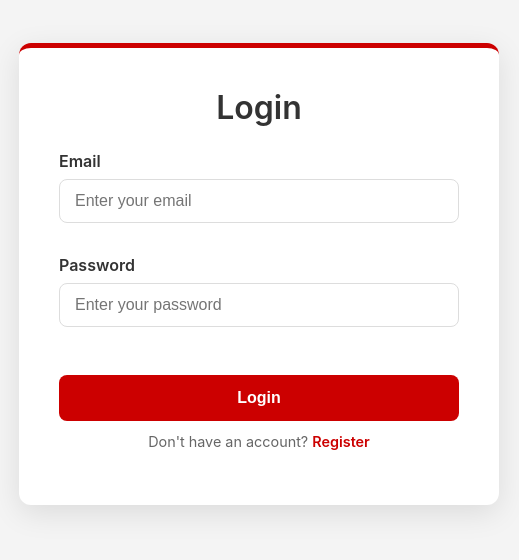
Scenario: Login Component - Unit Tests › displays error message on failed login
Type "wrong@ncsu.edu" into the field labelled "Email".
click(259, 201); type("wrong@ncsu.edu")  # box [59,179,459,223]
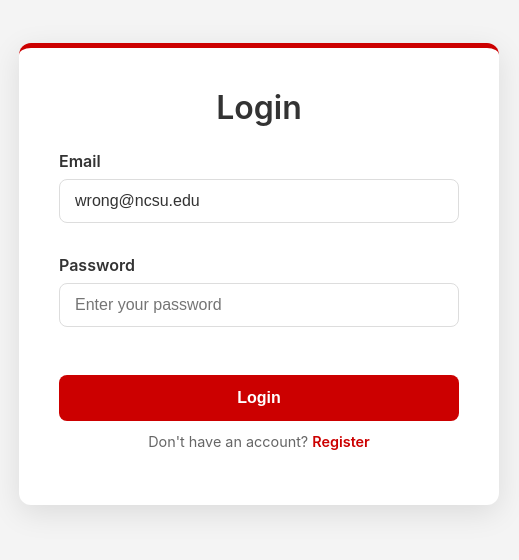
Type "wrongpass" into the password field labelled "Password".
click(259, 305); type("wrongpass")  # box [59,283,459,327]
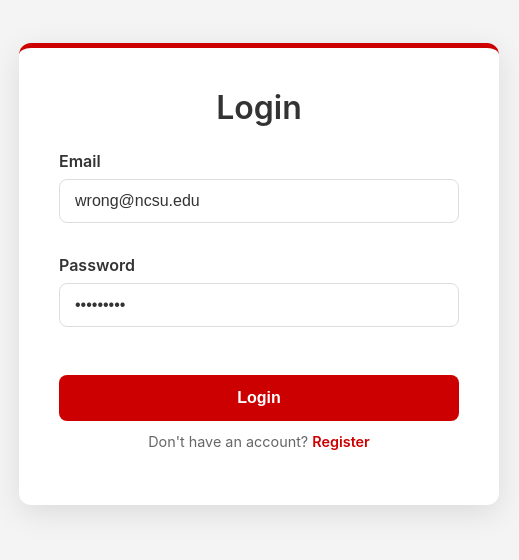
Click the button "Login".
click(259, 398)  # box [59,375,459,421]
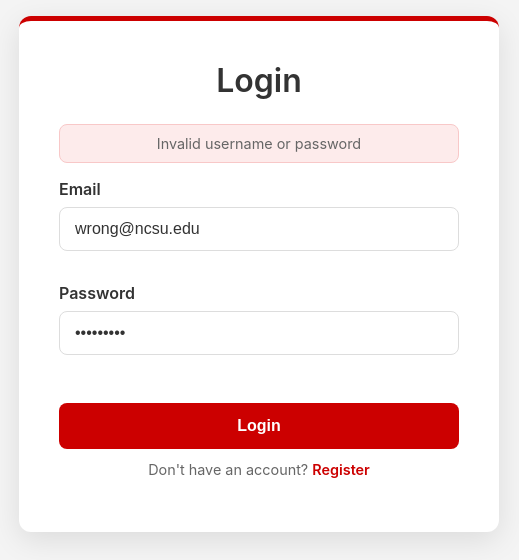
Now the text "Invalid username or password" is shown, box [59,124,459,163]
